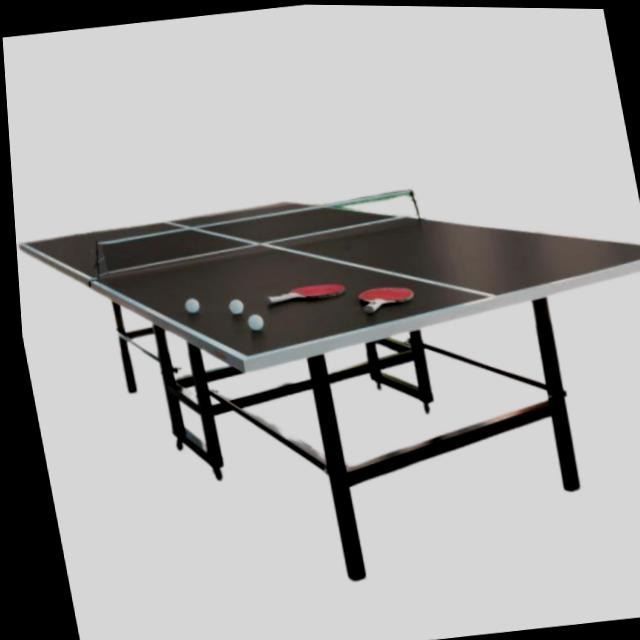TT Net: (85, 186, 422, 282)
TT Racket: (355, 278, 420, 308), (286, 274, 353, 303)
TT Table: (19, 199, 640, 360)
